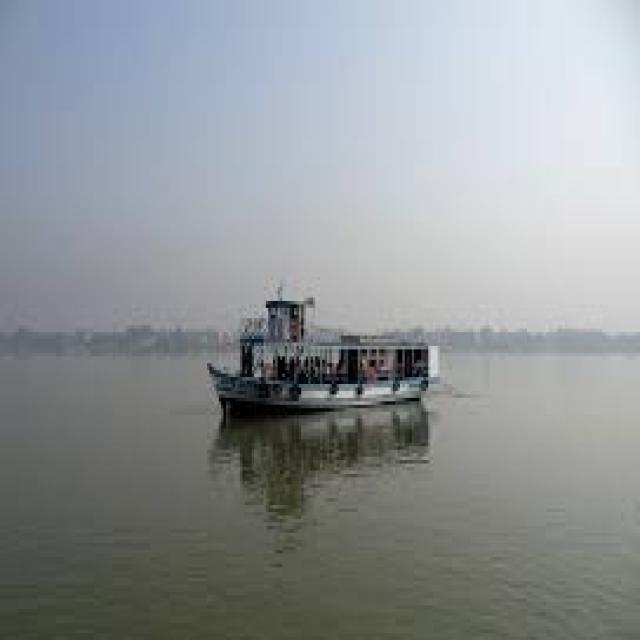fishing boat: (206, 281, 444, 410)
